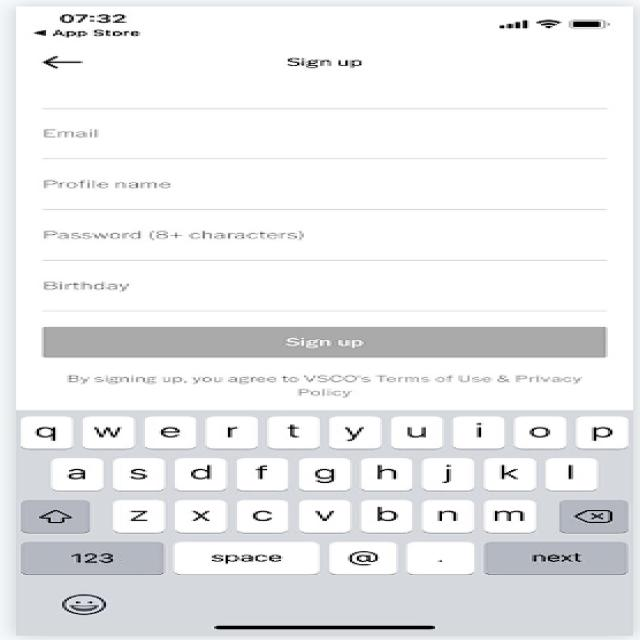button: (24, 321, 625, 366)
icon button: (29, 50, 105, 75)
input: (18, 116, 632, 170), (18, 219, 632, 269), (15, 169, 640, 217), (18, 274, 632, 320)
text: (52, 371, 616, 412), (268, 53, 398, 73)
